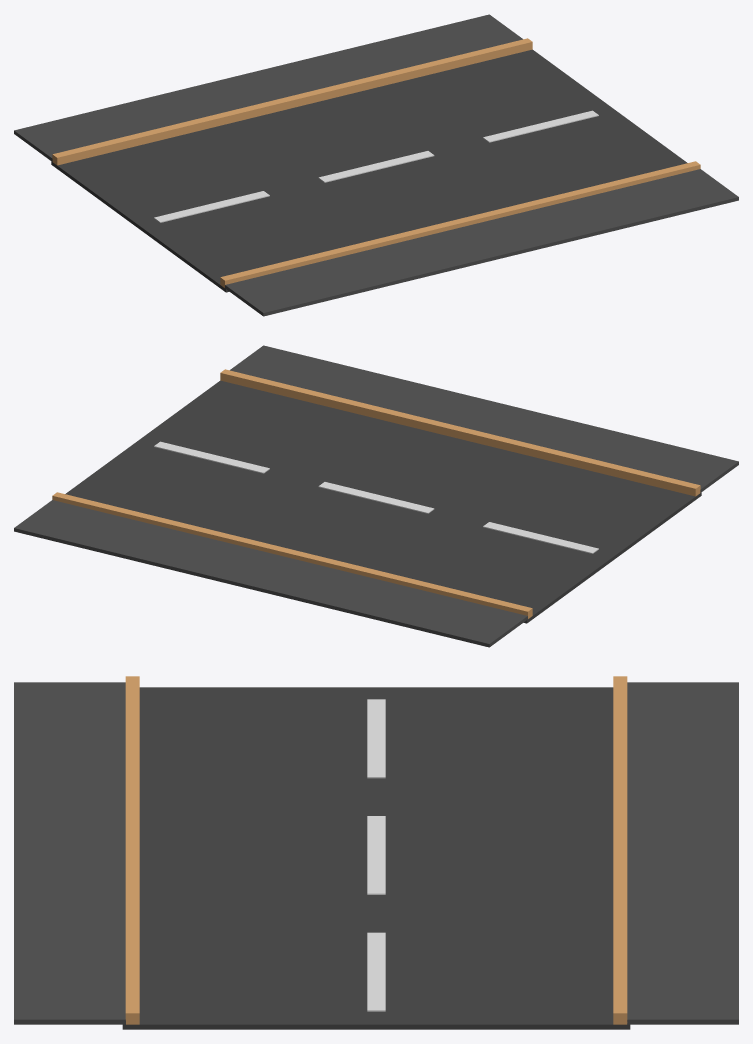
Rendered from road.fbx.
The picture shows the model from 3 angles, top to bottom: view 1: azimuth 30°, elevation 25°; view 2: azimuth 150°, elevation 25°; view 3: azimuth 270°, elevation 25°; orthographic projection. The views are drawn at different scales.
Parts seen in each view (by area): view 1: Cube.004, Cube.003, Cube.005, Cube.001, Cube.002; view 2: Cube.004, Cube.003, Cube.005, Cube.001, Cube.002; view 3: Cube.004, Cube.003, Cube.005, Cube.001, Cube.002.
Boxes of the visible parts, box(x1,y1,x2,y2) form: Cube.004: box(51, 49, 687, 292); Cube.003: box(14, 14, 738, 316); Cube.005: box(52, 38, 700, 287); Cube.001: box(318, 110, 598, 182); Cube.002: box(154, 191, 269, 222); Cube.004: box(65, 380, 701, 623); Cube.003: box(14, 345, 738, 647); Cube.005: box(52, 369, 700, 618); Cube.001: box(154, 441, 434, 513); Cube.002: box(483, 522, 598, 553); Cube.004: box(122, 687, 630, 1029); Cube.003: box(14, 682, 738, 1024); Cube.005: box(125, 676, 627, 1024); Cube.001: box(367, 816, 385, 1011); Cube.002: box(367, 699, 385, 778).
Bounding box in the file's own units: 2127 × 47.79 × 1933.
